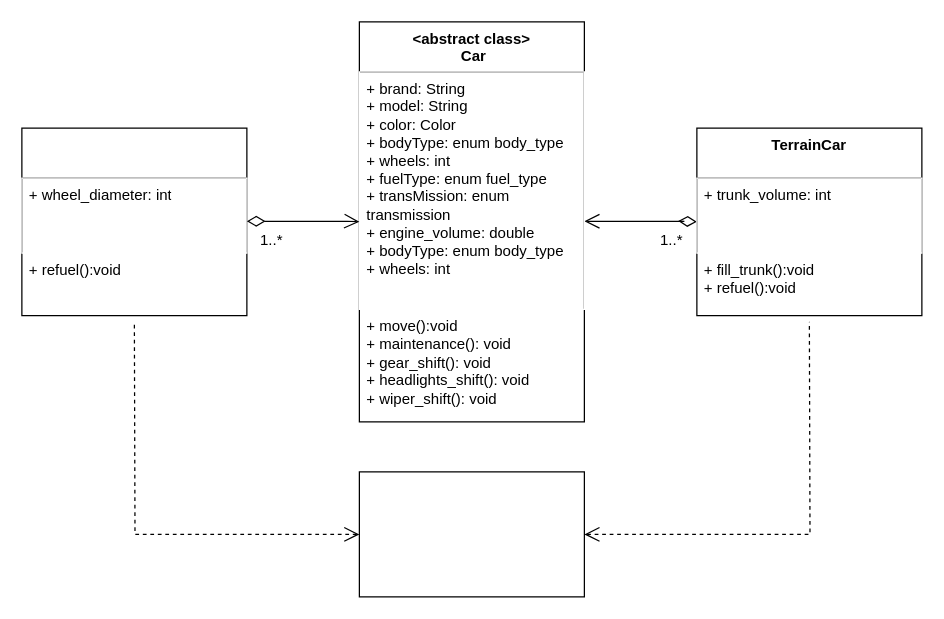
Image size: 944x619. Some labels were removed from this diagram. The shapes that lost their labels are listed below. From the top down, each one's box as (x1, y1, x2, y2) in pixels, then its label:
(21, 127, 247, 316): TownCar
(358, 471, 584, 597): <<Interface>> GasStation + field1: + refuel():void
